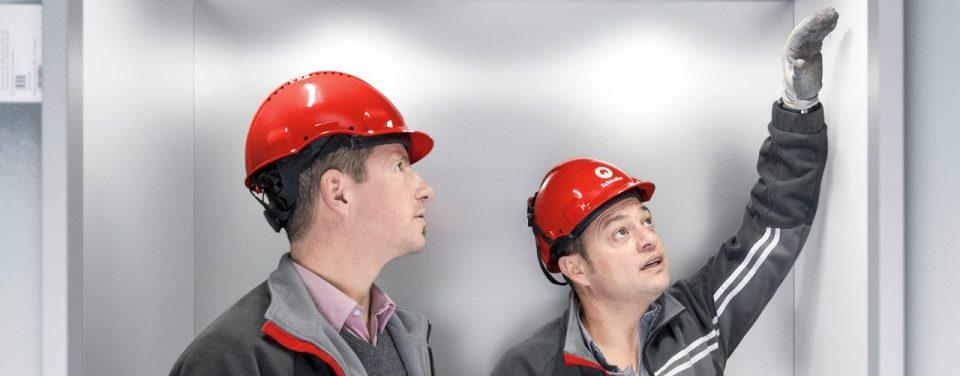helmet: (242, 70, 435, 190), (530, 157, 655, 275)
